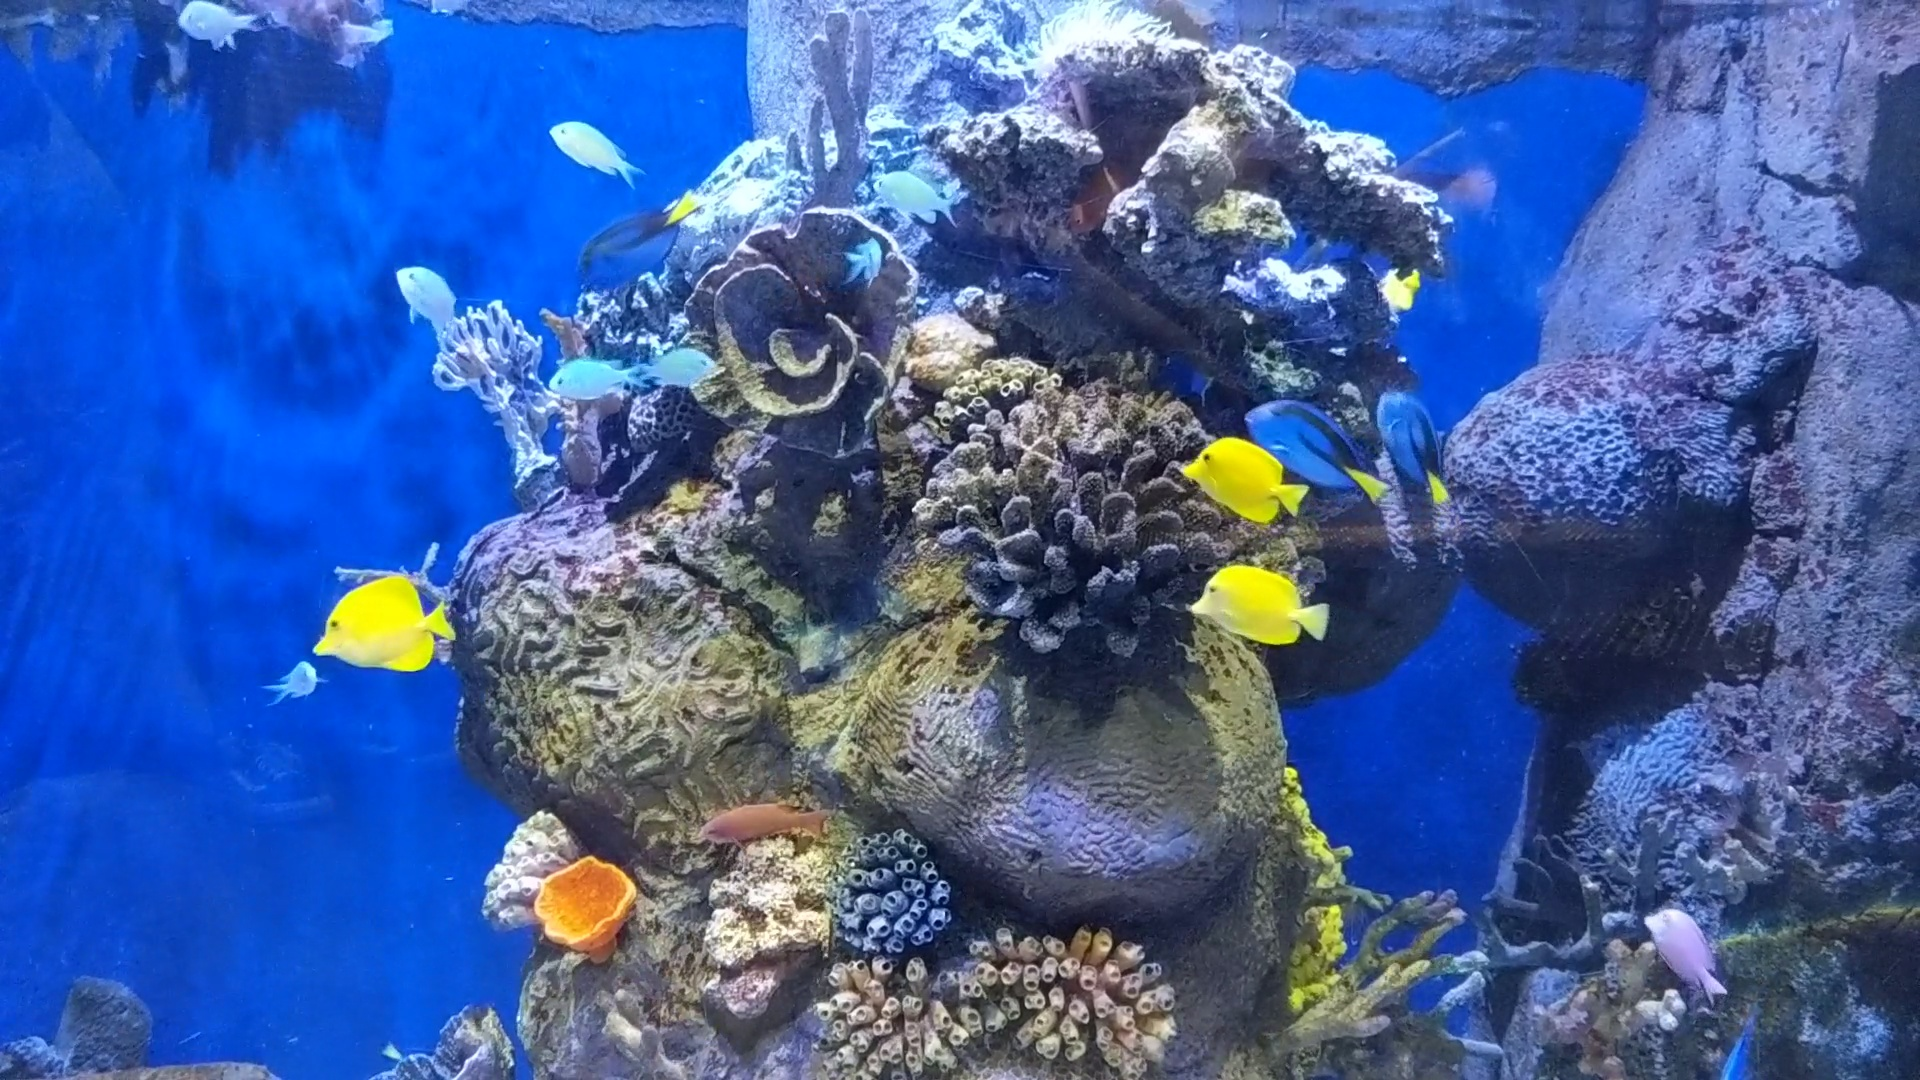blue tang surgeonfish: (1240, 384, 1386, 506), (564, 189, 707, 284), (1370, 386, 1462, 512)
damselfish: (388, 241, 464, 360), (546, 107, 644, 185), (849, 164, 961, 223), (853, 164, 961, 222), (535, 348, 638, 404), (166, 0, 268, 51), (644, 344, 723, 384), (837, 239, 885, 282)
pink fish: (1640, 899, 1738, 1013), (702, 790, 839, 861)
saddle butterfly fish: (309, 564, 458, 684), (1175, 542, 1336, 644), (1171, 426, 1309, 530)
